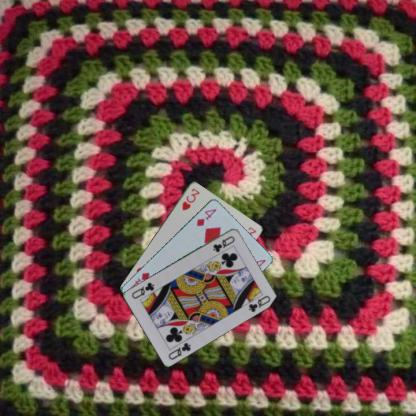3h: (179, 186, 201, 212)
4d: (193, 205, 218, 227)
Qc: (210, 233, 236, 253), (166, 340, 192, 360)
